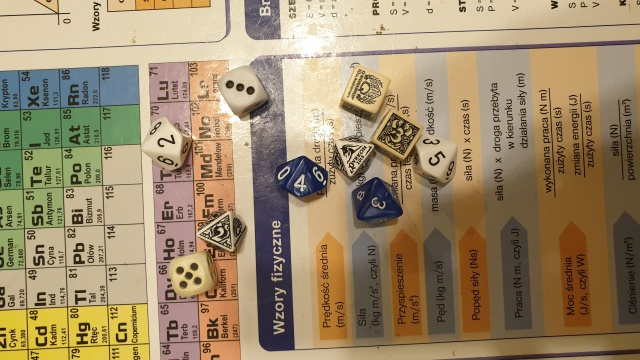d10-2: (140, 116, 194, 174)
d10-3: (346, 174, 407, 231)
d10-4: (271, 154, 331, 201)
d10-5: (414, 131, 460, 188)
d6-3: (215, 65, 271, 116)
d6-5: (167, 252, 220, 297)
d6p-3: (372, 111, 422, 161)
d6p-6: (339, 63, 391, 118)
d8p-1: (331, 135, 376, 177)
d8p-2: (195, 208, 246, 255)
